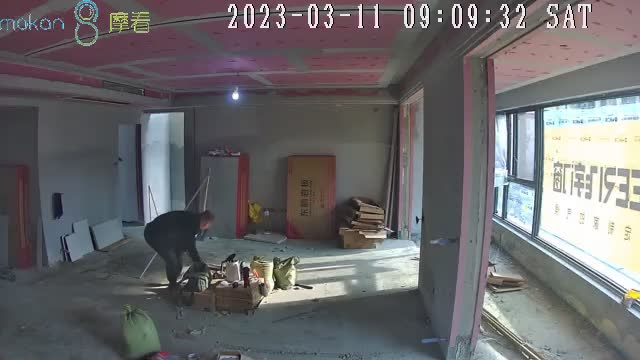people: (144, 207, 215, 288)
window: (496, 98, 640, 309)
